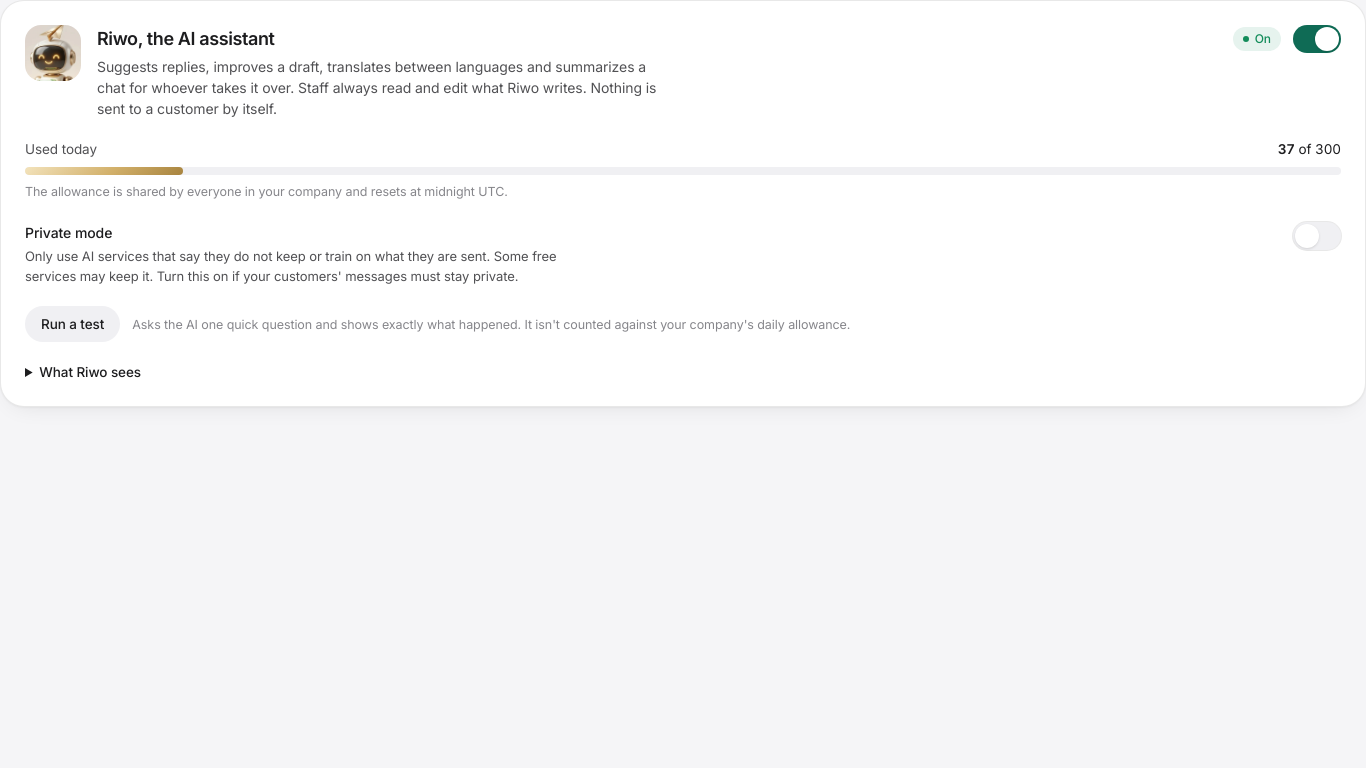
Test: the AI assistant settings › a test with several services says which worked, and what each keeps
Click the button "Run a test".
click(73, 324)  # box [25,306,120,342]
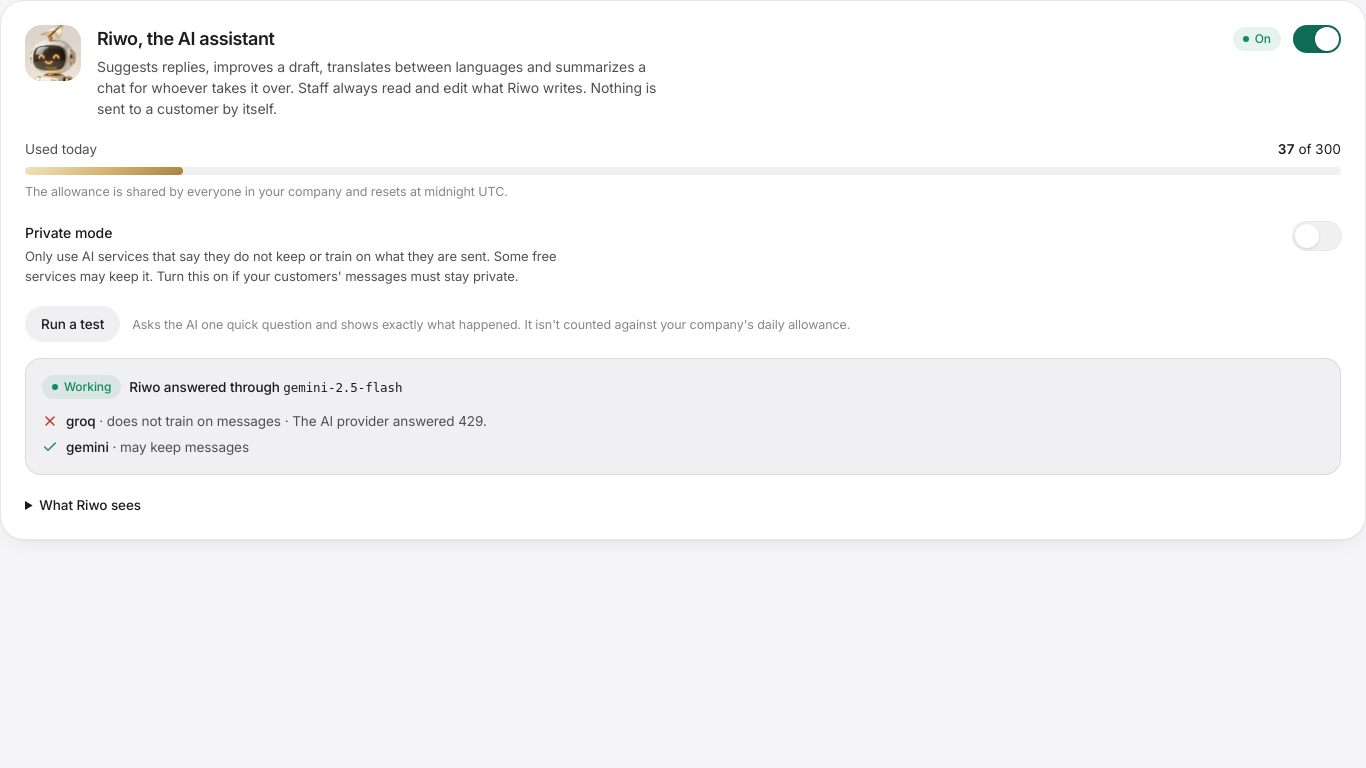
Result: the list named "Connected AI services" shows "groq" at [66,413,96,429]
Result: the list named "Connected AI services" shows "does not train on messages" at [96,413,487,429]
Result: the list named "Connected AI services" shows "gemini" at [66,439,109,455]
